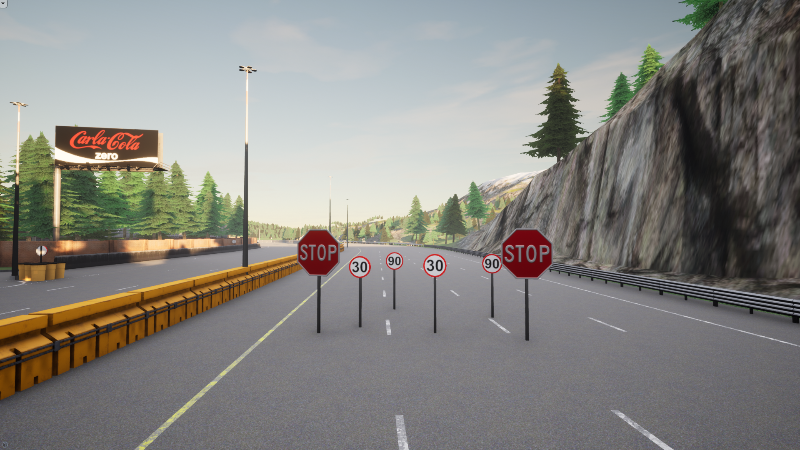fast: (482, 253, 503, 275), (385, 252, 404, 271)
slow: (423, 254, 447, 277), (349, 256, 371, 278)
stop: (502, 228, 554, 279), (296, 229, 341, 277)
